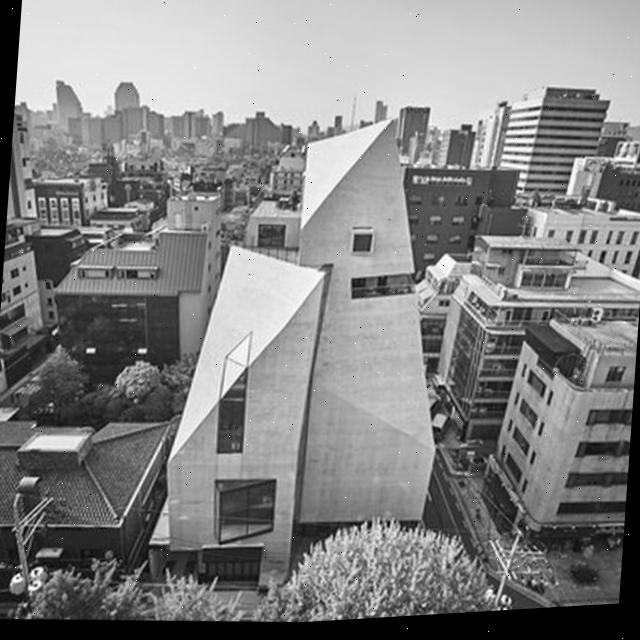building: (160, 101, 458, 614), (432, 215, 640, 456), (486, 298, 639, 555), (0, 403, 180, 599), (44, 213, 222, 375), (394, 151, 526, 274), (497, 76, 612, 205), (513, 189, 640, 283), (31, 163, 112, 232), (569, 146, 640, 218), (48, 74, 96, 145), (220, 100, 280, 153), (106, 76, 154, 142), (388, 96, 438, 159), (434, 120, 472, 172)
